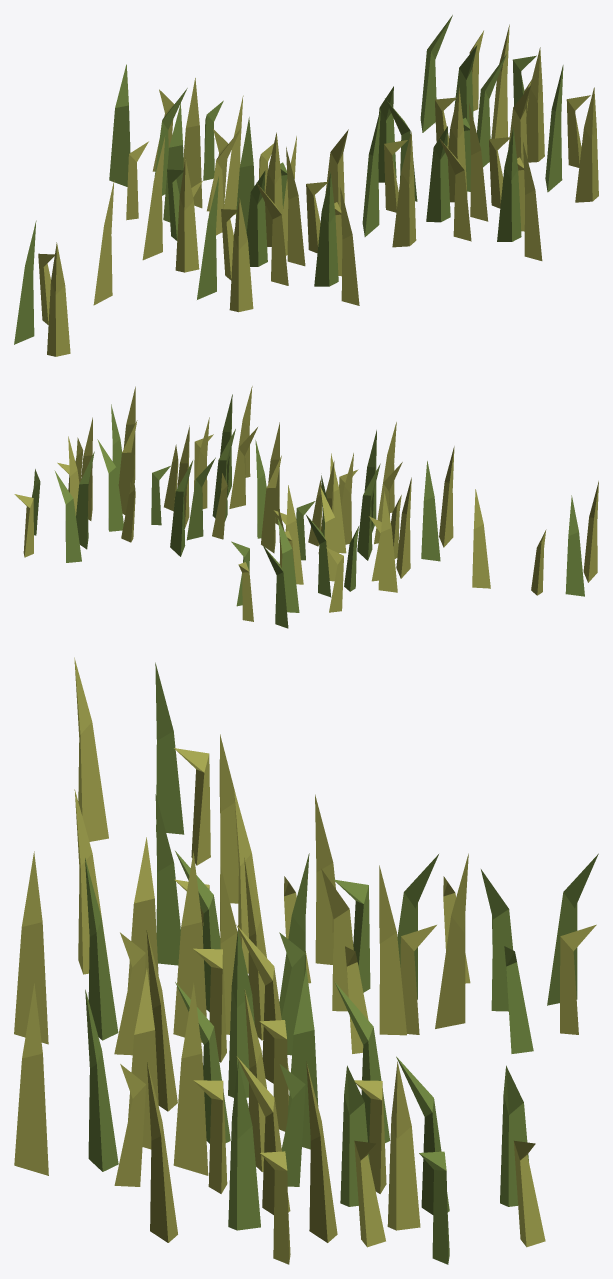
File: fbxshortgrass.fbx
3 renders of one model, top to bottom at view 1: azimuth 30°, elevation 25°; view 2: azimuth 150°, elevation 25°; view 3: azimuth 270°, elevation 25°, orthographic. The views are drawn at different scales.
Parts seen in each view (by area): view 1: pCylinder126; view 2: pCylinder126; view 3: pCylinder126.
Part boxes in pixels (bbox=[...]): pCylinder126: bbox=[14, 15, 598, 356]; pCylinder126: bbox=[14, 386, 598, 628]; pCylinder126: bbox=[14, 657, 598, 1264].
Bounding box in the file's own units: 18.22 × 3.49 × 10.22.
